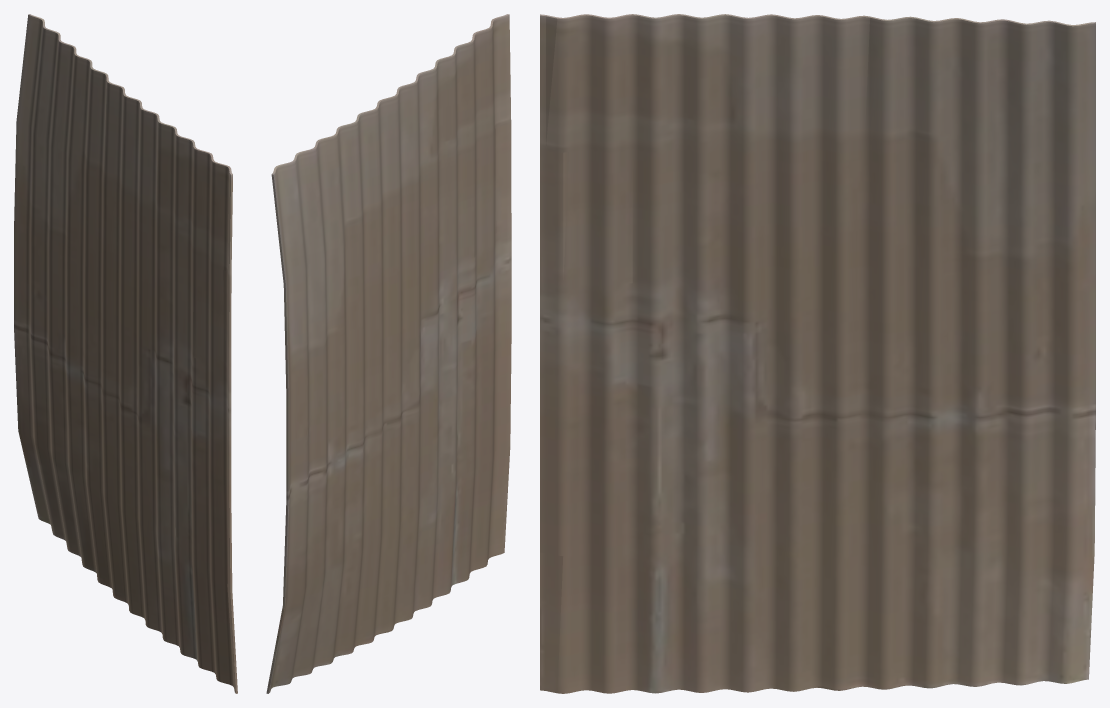
3 views of the same model, side by side, from view 1: azimuth 30°, elevation 25°; view 2: azimuth 150°, elevation 25°; view 3: azimuth 270°, elevation 25° (orthographic). The views are drawn at different scales.
Visible parts, largest first — view 1: body0_model0_lod0_mesh0; view 2: body0_model0_lod0_mesh0; view 3: body0_model0_lod0_mesh0.
Part boxes in pixels (x1=…): body0_model0_lod0_mesh0: x1=14, y1=14, x2=237, y2=693; body0_model0_lod0_mesh0: x1=266, y1=14, x2=511, y2=693; body0_model0_lod0_mesh0: x1=540, y1=14, x2=1095, y2=693.
Bounding box in the file's own units: 7.28 × 128 × 96.
Materials: 1 (1 with a texture image).
